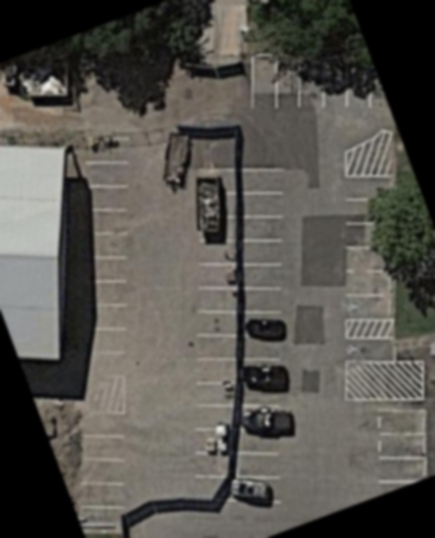parkingspot: (231, 165, 287, 505), (73, 135, 133, 358), (190, 236, 239, 431), (341, 173, 395, 322), (248, 53, 374, 111), (73, 410, 128, 511), (371, 404, 428, 498), (341, 335, 396, 364), (190, 450, 233, 479)
